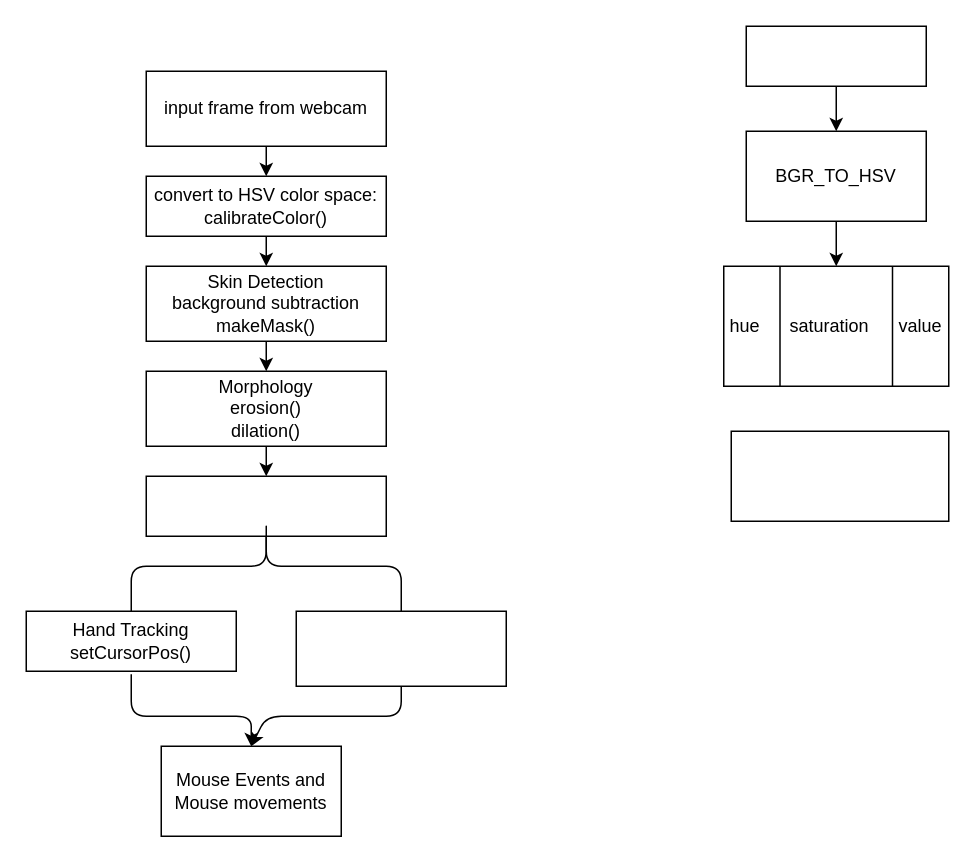
Image size: 975x863. Some labels were removed from this diagram. Each missing label, with the box of its shape:
find contours and centriods drawCentriods(): (145, 475, 386, 536)
Gesture Recognition chooseAction() performAction(): (295, 610, 506, 686)
i.skin detection ii.background subtraction: (730, 430, 949, 521)
input image: (745, 25, 926, 86)
